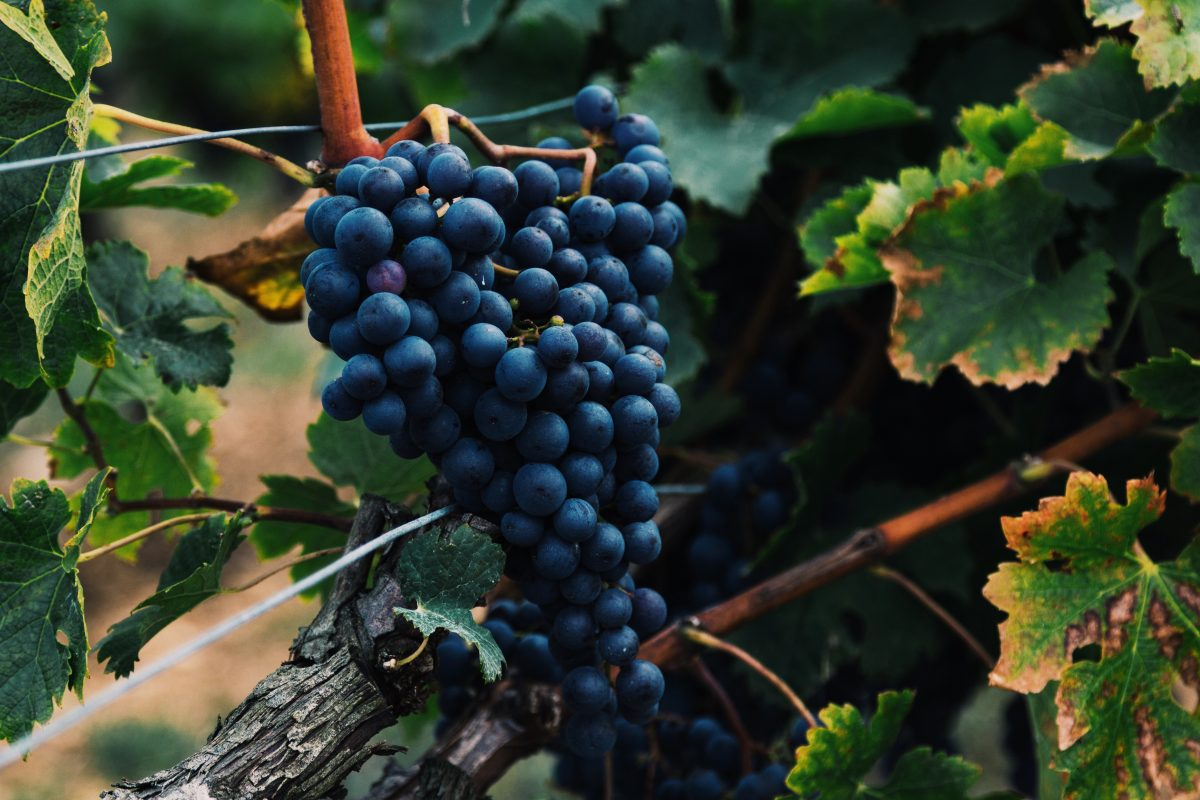Black grapes: (274, 108, 715, 755)
